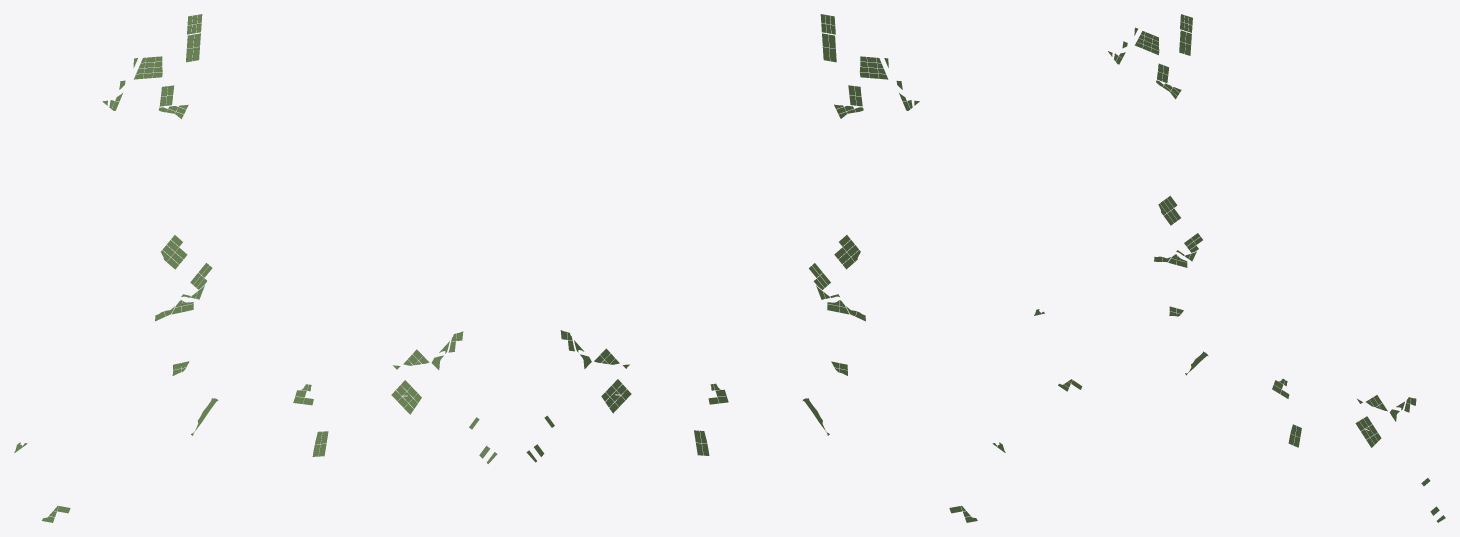
File: context-rice-paddies.glb
The picture shows the model from 3 angles, left to right: view 1: azimuth 30°, elevation 25°; view 2: azimuth 150°, elevation 25°; view 3: azimuth 330°, elevation 25°; orthographic projection. The views are drawn at different scales.
Visible parts, largest first — view 1: world; view 2: world; view 3: world.
Part boxes in pixels (x1,y1,x2,y2): world: (14,14,497,522); world: (526,14,1005,522); world: (1034,14,1445,522).
Bounding box in the file's own units: 2799 × 2891 × 14.68.
